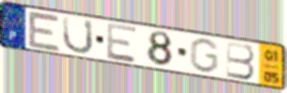8: (144, 30, 175, 68)
B: (225, 40, 257, 81)
E: (26, 9, 63, 53), (105, 21, 139, 65)
G: (188, 37, 221, 75)
U: (61, 15, 95, 55)
